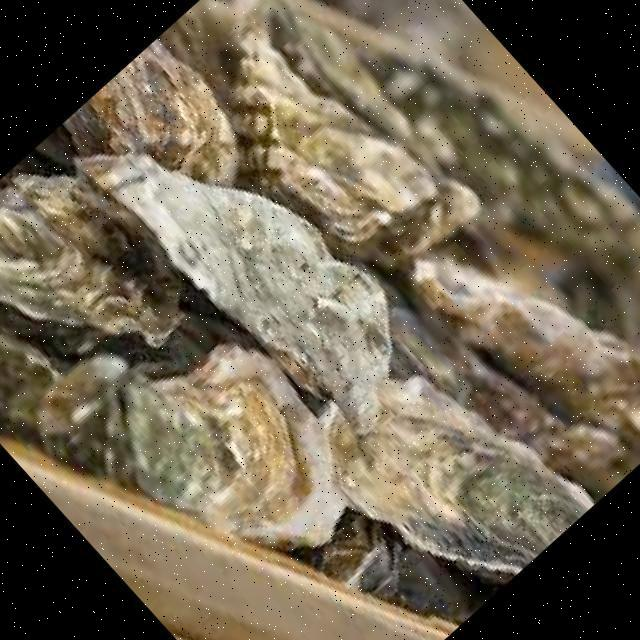Oyster-Closed: (78, 155, 391, 399), (228, 32, 480, 270), (330, 378, 592, 582), (122, 345, 346, 548), (411, 258, 640, 439), (0, 175, 184, 347), (65, 41, 239, 184)
